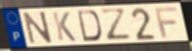2: (131, 6, 158, 42)
D: (76, 9, 103, 42)
F: (153, 6, 179, 39)
K: (51, 11, 78, 42)
N: (21, 10, 54, 45)
Z: (99, 8, 134, 42)
